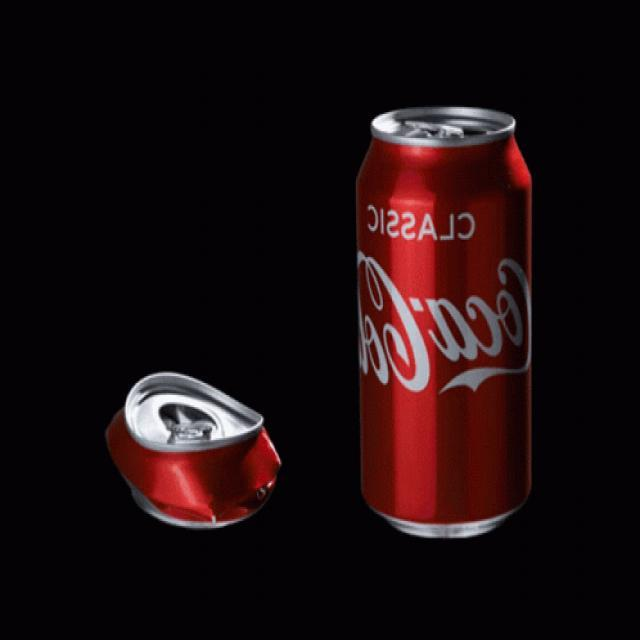can: (343, 103, 536, 542), (101, 354, 278, 527)
